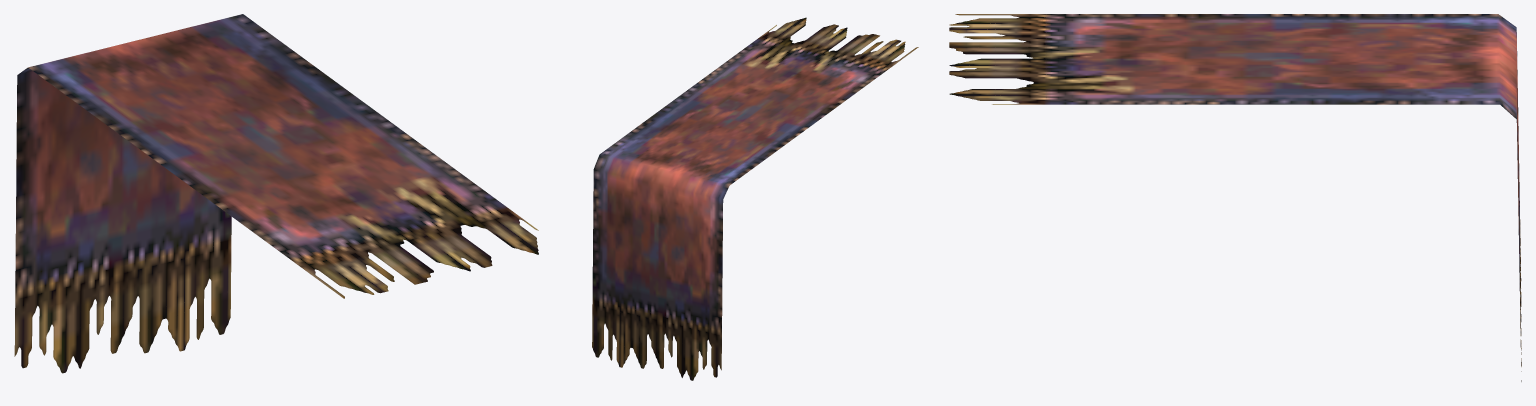
Rendered from stst159.dae.
3 renders of one model, left to right at view 1: azimuth 30°, elevation 25°; view 2: azimuth 150°, elevation 25°; view 3: azimuth 270°, elevation 25°, orthographic. The views are drawn at different scales.
Parts seen in each view (by area): view 1: crown1; view 2: crown1; view 3: crown1.
Boxes of the visible parts, x1,y1,x2,y2 form: crown1: (14,14,538,373); crown1: (592,17,918,380); crown1: (949,14,1521,381).
Size of the model in its own units: 0.1943 by 0.5185 by 0.2873.
1 material, 1 textured.
